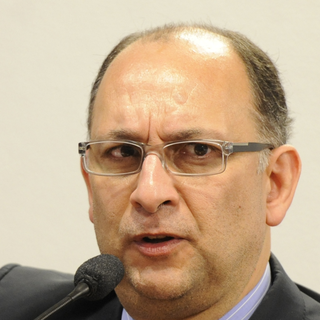eye: (173, 138, 216, 162), (101, 142, 141, 163)
